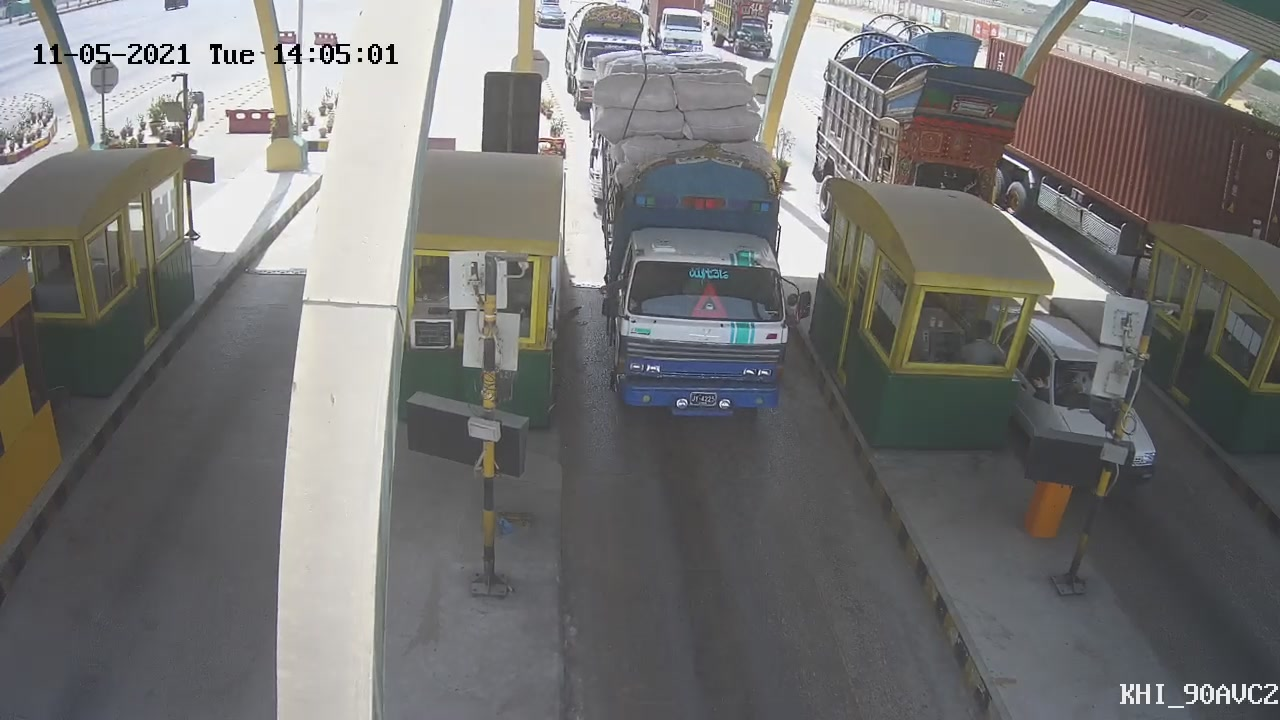F5: (584, 48, 788, 424)
